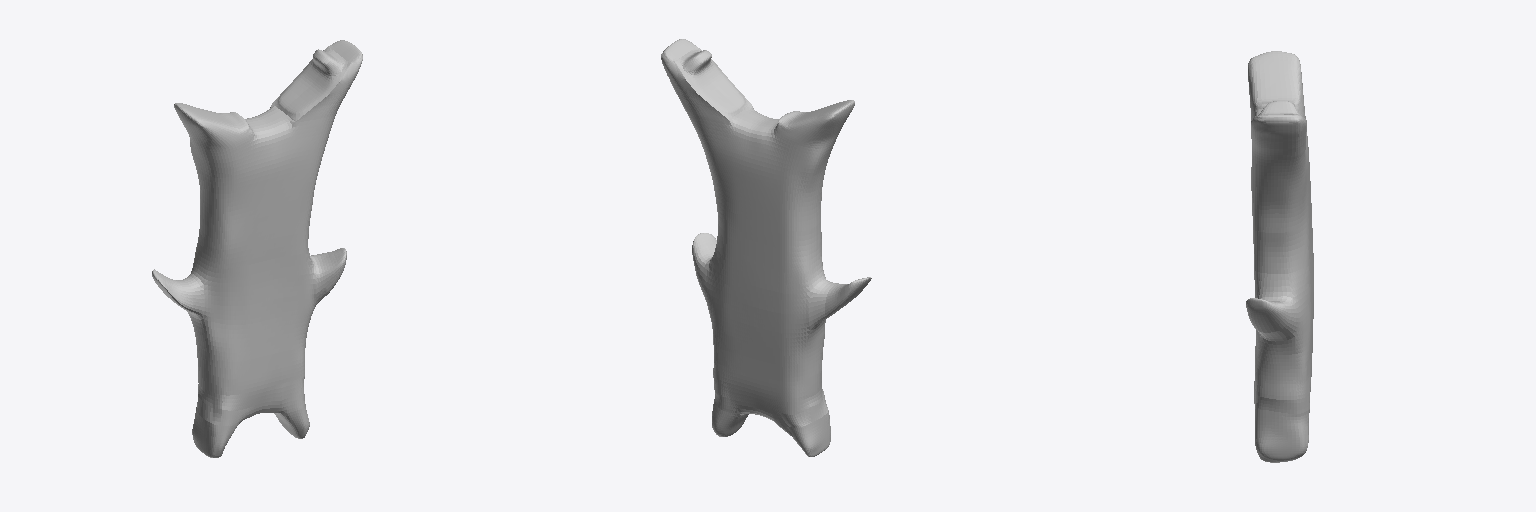
File: korok23.obj
The picture shows the model from 3 angles: view 1: azimuth 30°, elevation 25°; view 2: azimuth 150°, elevation 25°; view 3: azimuth 270°, elevation 25°; orthographic projection.
Visible parts, largest first — view 1: Plane; view 2: Plane; view 3: Plane.
Boxes of the visible parts, box(x1,y1,x2,y2) form: Plane: box(152, 40, 362, 457); Plane: box(661, 39, 871, 456); Plane: box(1246, 51, 1313, 462).
Size of the model in its own units: 1.01 by 1.82 by 0.3005.